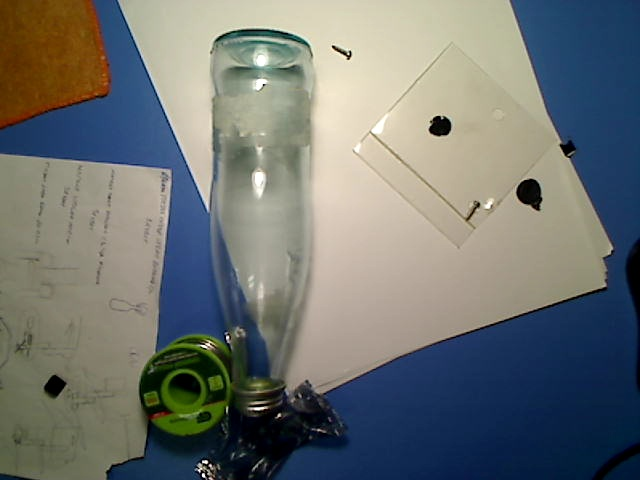bottle: (206, 28, 316, 423)
